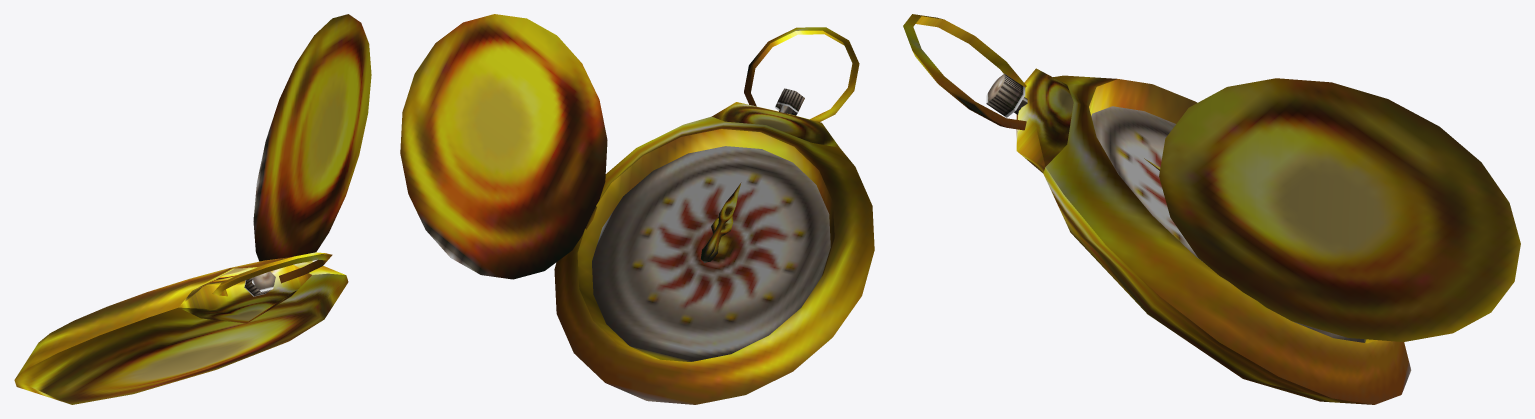
The model's file is delete.ico.obj.
The picture shows the model from 3 angles, left to right: view 1: azimuth 30°, elevation 25°; view 2: azimuth 150°, elevation 25°; view 3: azimuth 270°, elevation 25°; orthographic projection. The views are drawn at different scales.
Bounding box in the file's own units: 3.09 × 2.47 × 3.15.
Materials: 1 (1 with a texture image).
